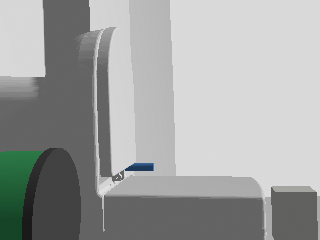lid_1: (97, 27, 135, 181)
